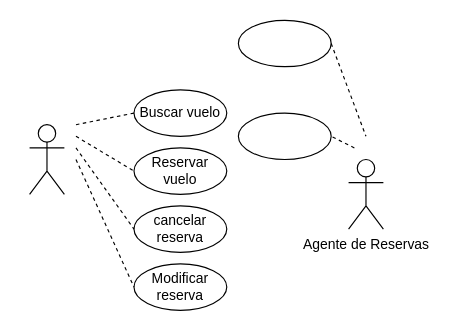
The diagram is 449 pixels wide and 331 high, and some of its shapes have lost their labels. Here are the shapes that lost their labels. From the top down, the centre of each, then its label:
At point (284, 43): "gestionar reserva".
At point (284, 136): "gestionar vuelos".
At point (46, 159): "Pasajero".
